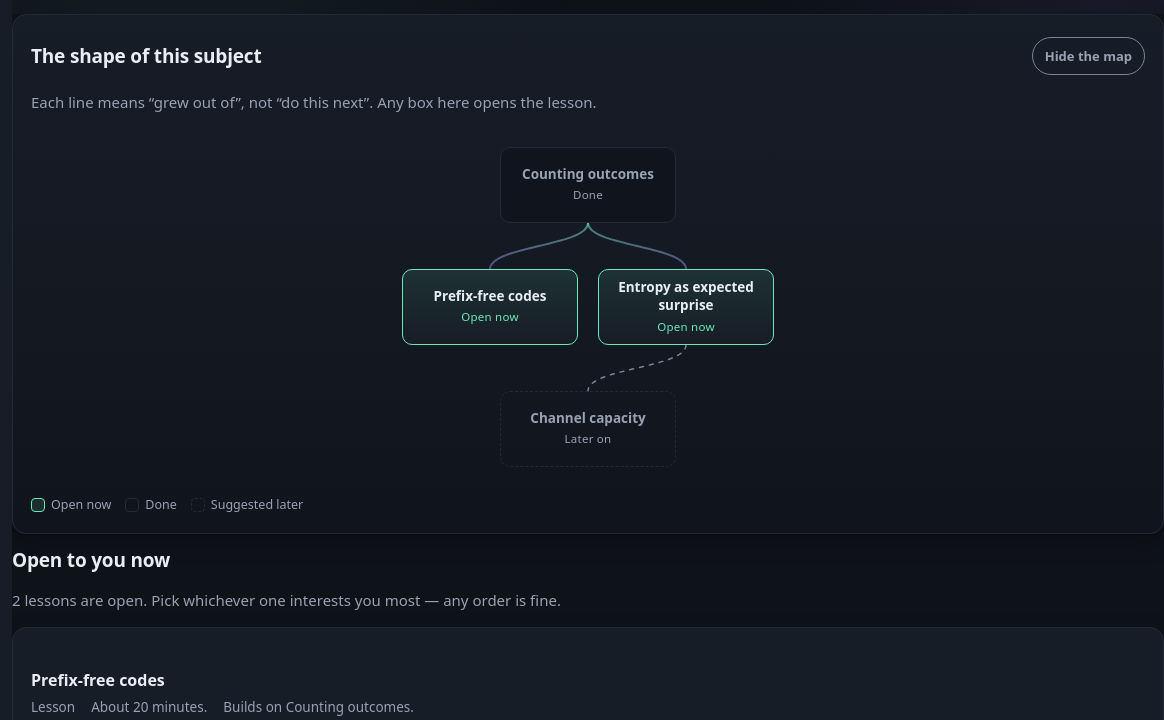
the subject map on screen › folds away without taking the lesson cards with it
Click the button with test id "toggle-graph-map".
click(1088, 56)  # box [1032,37,1145,75]
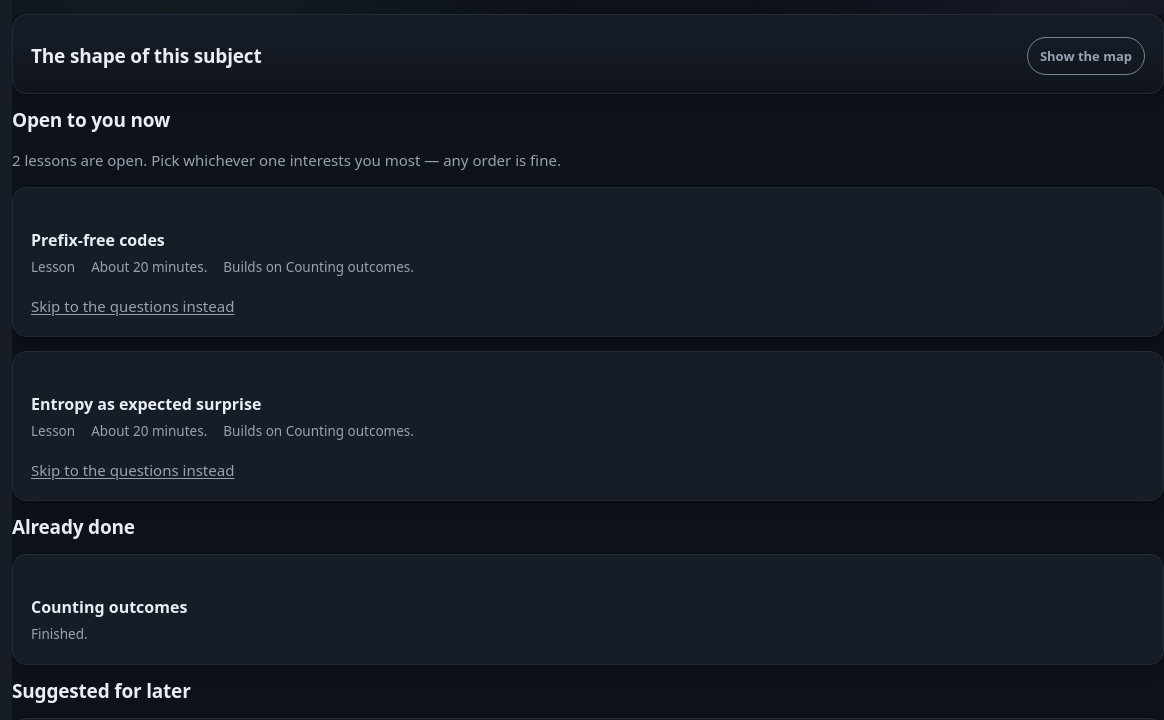
expect the number of list items with test id "graph-open-node" is 2: met, box [12,187,1163,337]; [12,351,1163,501]
expect the element with test id "graph-map" is gone: met
Click the button with test id "toggle-graph-map".
click(1086, 56)  # box [1027,37,1145,75]
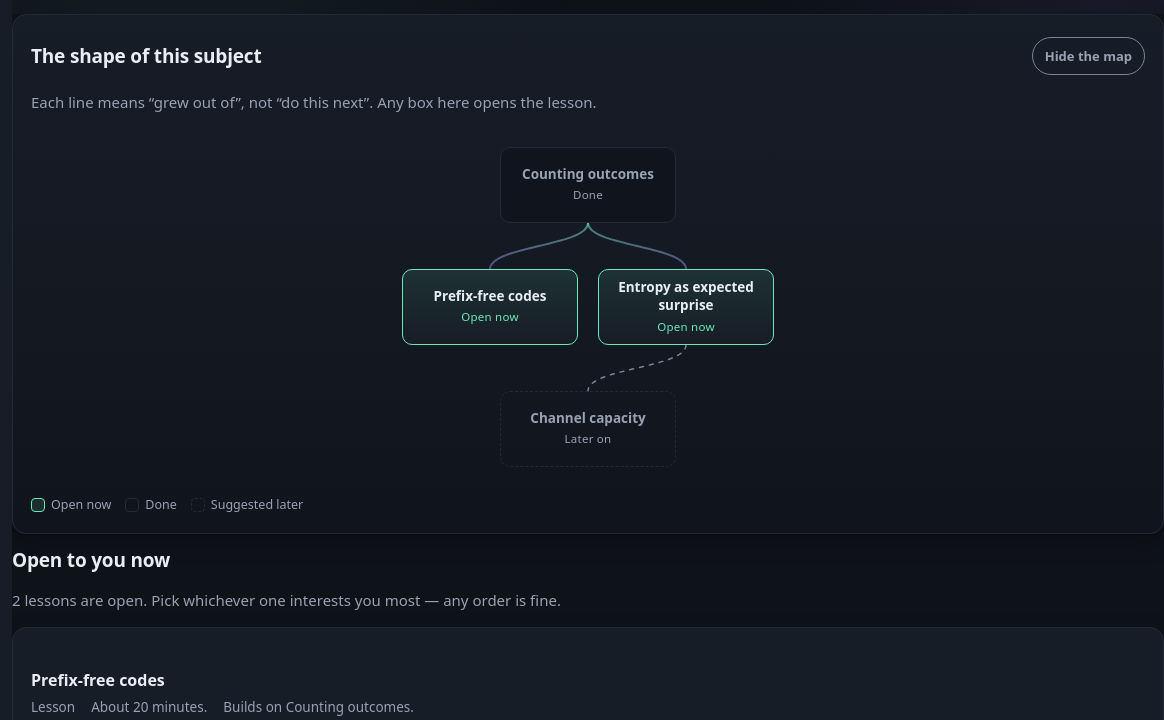
expect the element with test id "graph-map" is shown: met, box [388,133,788,481]
